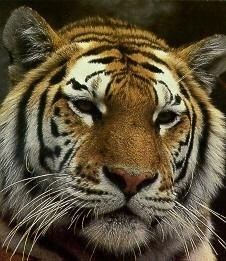tigre: (2, 5, 226, 259)
